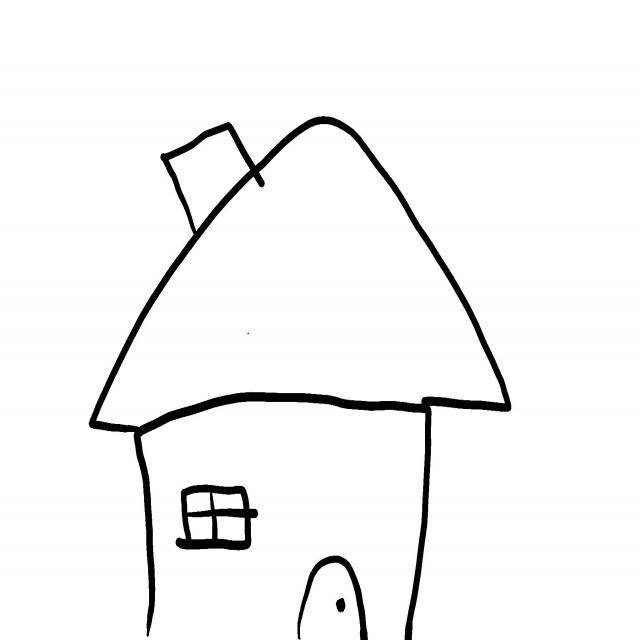chimney: (161, 122, 265, 232)
door: (301, 565, 361, 640)
house: (89, 117, 511, 640)
roof: (90, 118, 510, 432)
wall: (135, 403, 427, 640)
window: (176, 486, 258, 550)
